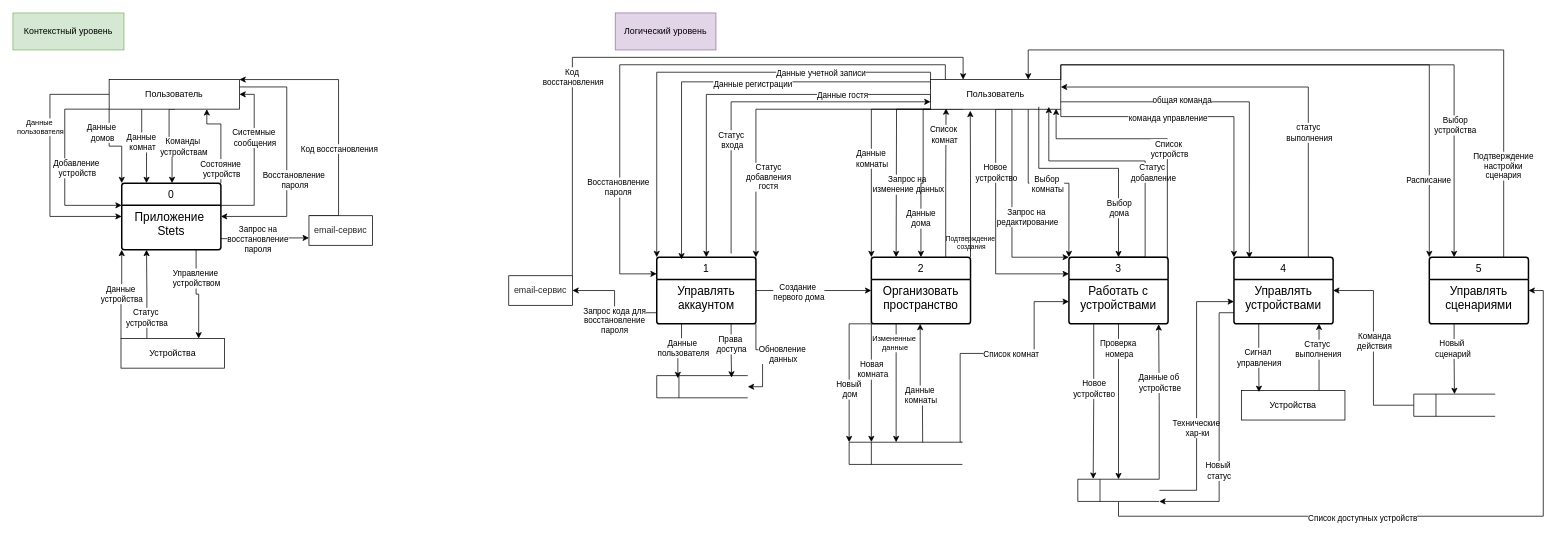
The diagram is 1562 pixels wide and 536 high, and some of its shapes have lost their labels. The centre of each missing label's shape, as x and y in pixels:
"D1 Пользователи" belongs at pixel 702 386.
"D2 Пространство дома" belongs at pixel 905 452.
"D3 Устройства" belongs at pixel 1118 489.
"D4 Сценарии" belongs at pixel 1454 404.
